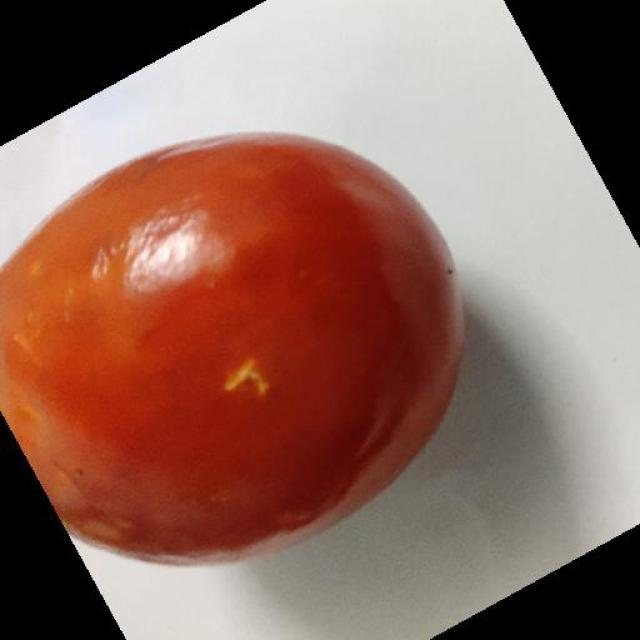Stale_tomato: (0, 130, 460, 532)
